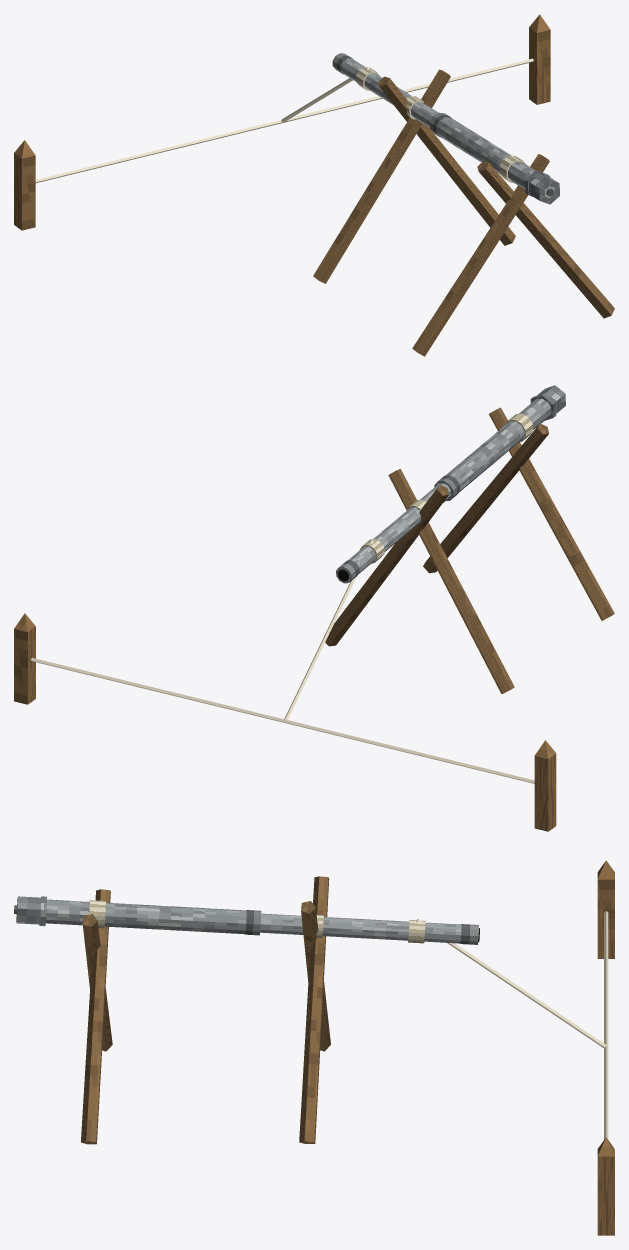
Rendered from tr_shotgun_1.glb.
3 views of the same model, one above another, from view 1: azimuth 30°, elevation 25°; view 2: azimuth 150°, elevation 25°; view 3: azimuth 270°, elevation 25° (orthographic). The views are drawn at different scales.
Parts seen in each view (by area): view 1: block_rest stick (×4), block_stake (×2), block_receiver, block_string, block_barrel, block_end cap; view 2: block_rest stick (×4), block_stake (×2), block_string (×2), block_receiver, block_barrel; view 3: block_rest stick (×4), block_receiver, block_barrel, block_stake (×2), block_string (×2), block_end cap.
Part boxes in pixels (bbox=[...]): block_rest stick (×4): bbox=[313, 69, 614, 356]; block_stake (×2): bbox=[14, 14, 550, 230]; block_receiver: bbox=[436, 117, 535, 189]; block_string: bbox=[35, 58, 533, 182]; block_barrel: bbox=[341, 58, 438, 127]; block_end cap: bbox=[529, 173, 559, 204]; block_rest stick (×4): bbox=[325, 407, 614, 693]; block_stake (×2): bbox=[14, 613, 556, 831]; block_string (×2): bbox=[31, 540, 534, 783]; block_receiver: bbox=[434, 398, 551, 497]; block_barrel: bbox=[336, 483, 451, 582]; block_rest stick (×4): bbox=[81, 876, 330, 1144]; block_receiver: bbox=[46, 899, 246, 934]; block_barrel: bbox=[260, 913, 461, 943]; block_stake (×2): bbox=[597, 860, 614, 1235]; block_string (×2): bbox=[416, 911, 608, 1139]; block_end cap: bbox=[16, 896, 41, 924].
Size of the model in its own units: 0.924 by 0.3177 by 0.8258.
Materials: 2 (2 with a texture image).
